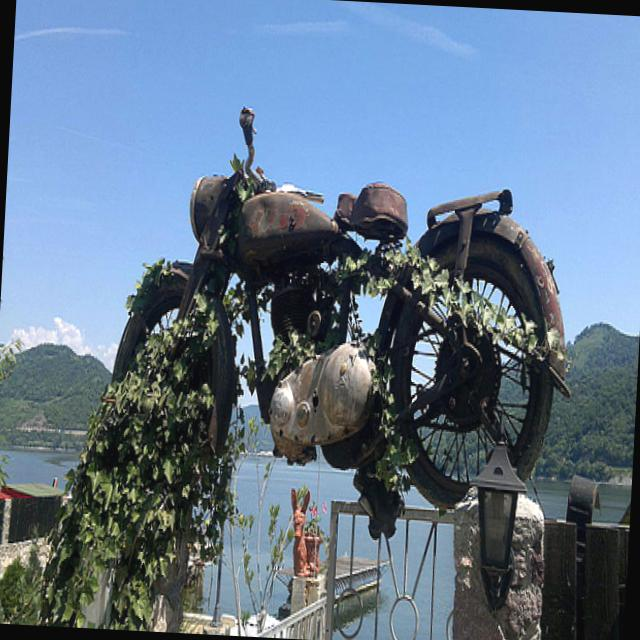Vehicle: (100, 99, 588, 514)
